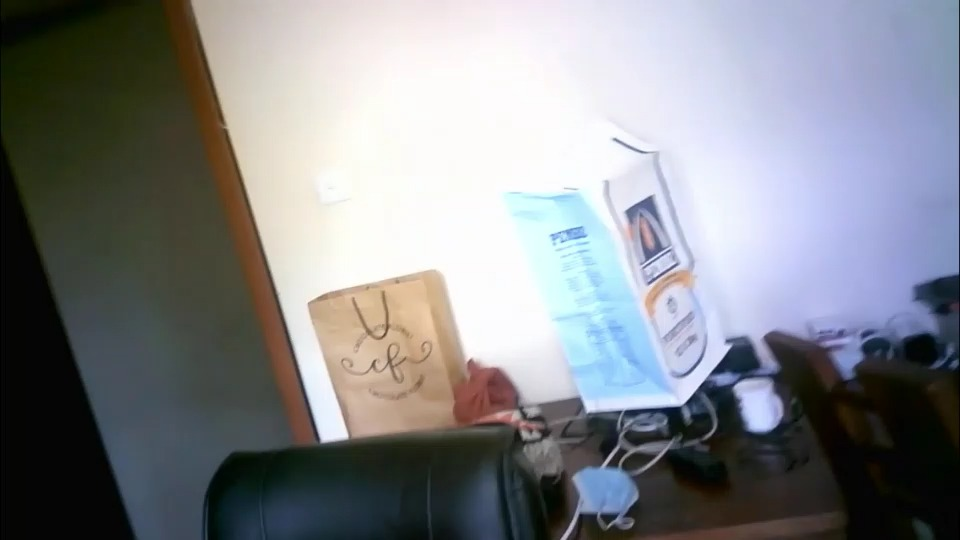wheat_flour_blue_label: (505, 119, 736, 409)
